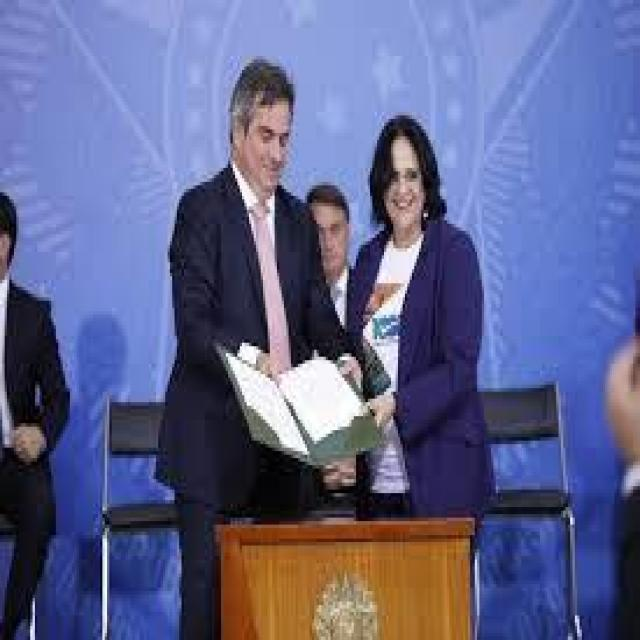person: (135, 21, 358, 636), (335, 67, 500, 556), (0, 172, 79, 636), (300, 147, 361, 325)
